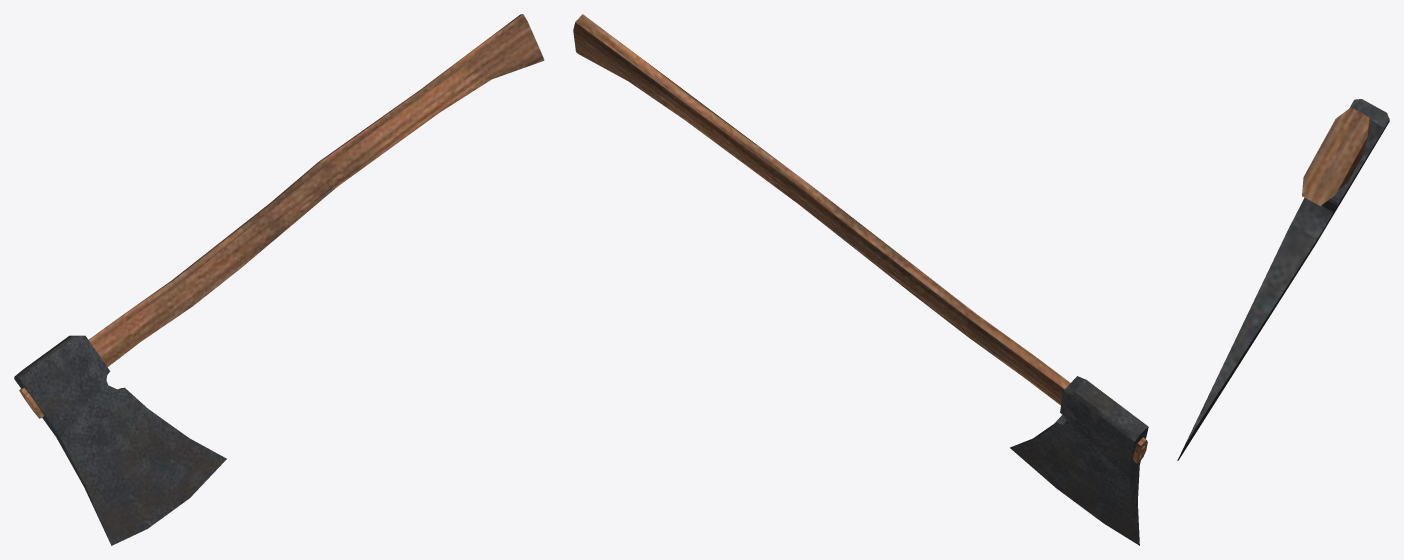
Rendered from sjekira.glb.
3 views of the same model, side by side, from view 1: azimuth 30°, elevation 25°; view 2: azimuth 150°, elevation 25°; view 3: azimuth 270°, elevation 25° (orthographic). The views are drawn at different scales.
Parts seen in each view (by area): view 1: Axe_1_aiStandardSurface9_0; view 2: Axe_1_aiStandardSurface9_0; view 3: Axe_1_aiStandardSurface9_0.
Boxes of the visible parts, x1=… form: Axe_1_aiStandardSurface9_0: x1=14, y1=14, x2=544, y2=545; Axe_1_aiStandardSurface9_0: x1=573, y1=14, x2=1148, y2=545; Axe_1_aiStandardSurface9_0: x1=1177, y1=99, x2=1389, y2=460.
Bounding box in the file's own units: 142 × 103 × 25.4.
1 material, 1 textured.
